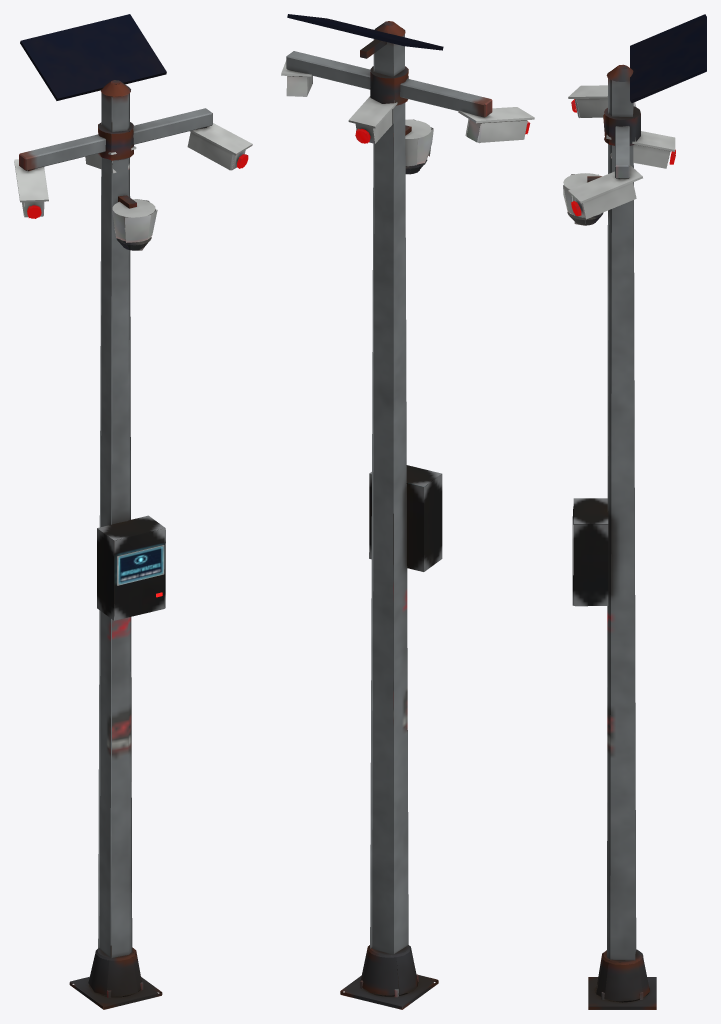
The model's file is cctv_pole_lod1.glb.
The picture shows the model from 3 angles, left to right: view 1: azimuth 30°, elevation 25°; view 2: azimuth 150°, elevation 25°; view 3: azimuth 270°, elevation 25°; orthographic projection. The views are drawn at different scales.
Parts seen in each view (by area): view 1: cctv_pole; view 2: cctv_pole; view 3: cctv_pole.
Part boxes in pixels (left/top/right/bottom): cctv_pole: left=14, top=14, right=252, bottom=1009; cctv_pole: left=281, top=14, right=534, bottom=1009; cctv_pole: left=563, top=14, right=706, bottom=1009.
Size of what is drawn, in the model's own units: 1.49 by 5.7 by 0.7796.
Materials: 1 (1 with a texture image).
